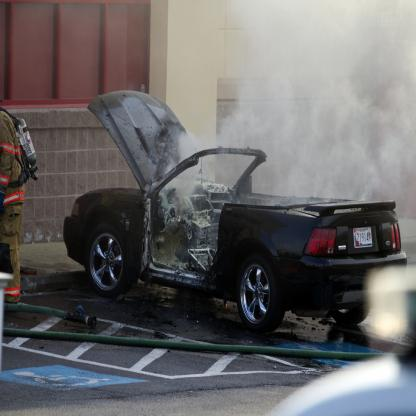Car: (64, 91, 409, 337)
